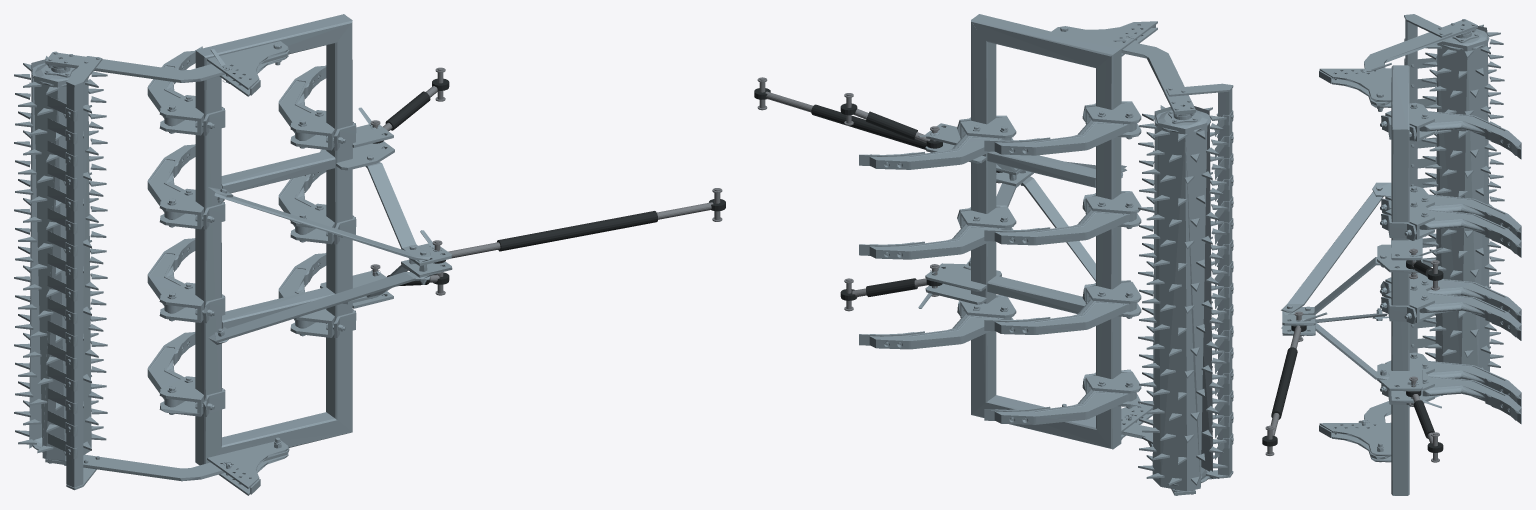
The model's file is implement_compact_chisel_plow_visual.obj.
3 views of the same model, side by side, from view 1: azimuth 30°, elevation 25°; view 2: azimuth 150°, elevation 25°; view 3: azimuth 270°, elevation 25° (orthographic). The views are drawn at different scales.
Parts seen in each view (by area): view 1: solid_218, solid_17, solid_11, solid_215, solid_10, solid_9, solid_27, solid_18, solid_214, solid_213, hitch_top_link_sleeve, solid_22 (+13 smaller); view 2: solid_218, solid_11, solid_17, solid_10, solid_215, solid_197, solid_97, solid_47, solid_147, solid_72, solid_122, solid_172 (+20 smaller); view 3: solid_218, solid_17, solid_4, solid_214, solid_215, solid_20, solid_47, solid_22, solid_72, solid_122, solid_172, solid_10 (+30 smaller).
Part boxes in pixels (x1,y1,x2,y2): solid_218: [29, 59, 91, 460]; solid_17: [326, 14, 352, 431]; solid_11: [195, 51, 221, 465]; solid_215: [66, 84, 83, 487]; solid_10: [195, 14, 352, 58]; solid_9: [196, 412, 352, 463]; solid_27: [214, 272, 430, 342]; solid_18: [221, 151, 335, 193]; solid_214: [45, 50, 289, 82]; solid_213: [45, 448, 289, 481]; hitch_top_link_sleeve: [497, 211, 657, 251]; solid_22: [207, 440, 288, 488]; solid_218: [1152, 106, 1213, 491]; solid_11: [1096, 49, 1121, 449]; solid_17: [971, 14, 996, 414]; solid_10: [971, 14, 1120, 67]; solid_215: [1218, 89, 1232, 475]; solid_197: [994, 389, 1136, 424]; solid_97: [994, 209, 1136, 245]; solid_47: [994, 119, 1136, 155]; solid_147: [994, 299, 1136, 334]; solid_72: [869, 134, 1011, 169]; solid_122: [869, 224, 1011, 259]; solid_172: [869, 313, 1011, 349]; solid_218: [1435, 26, 1489, 379]; solid_17: [1391, 129, 1409, 495]; solid_4: [1281, 191, 1383, 313]; solid_214: [1364, 19, 1477, 105]; solid_215: [1405, 19, 1417, 352]; solid_20: [1319, 68, 1391, 101]; solid_47: [1419, 111, 1521, 148]; solid_22: [1319, 422, 1391, 456]; solid_72: [1419, 209, 1521, 247]; solid_122: [1419, 292, 1521, 330]; solid_172: [1422, 376, 1521, 413]; solid_10: [1391, 65, 1409, 133].
Size of the model in its own units: 3.33 by 2.26 by 1.41.
